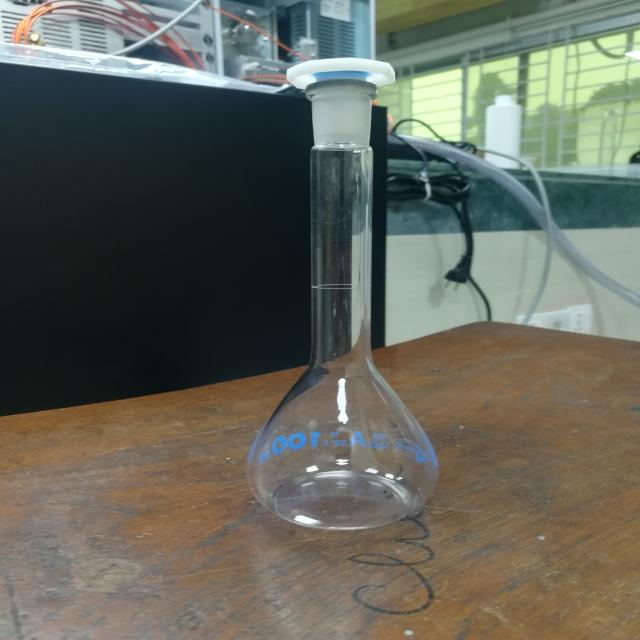Volumetric_Flask: (220, 29, 464, 554)
